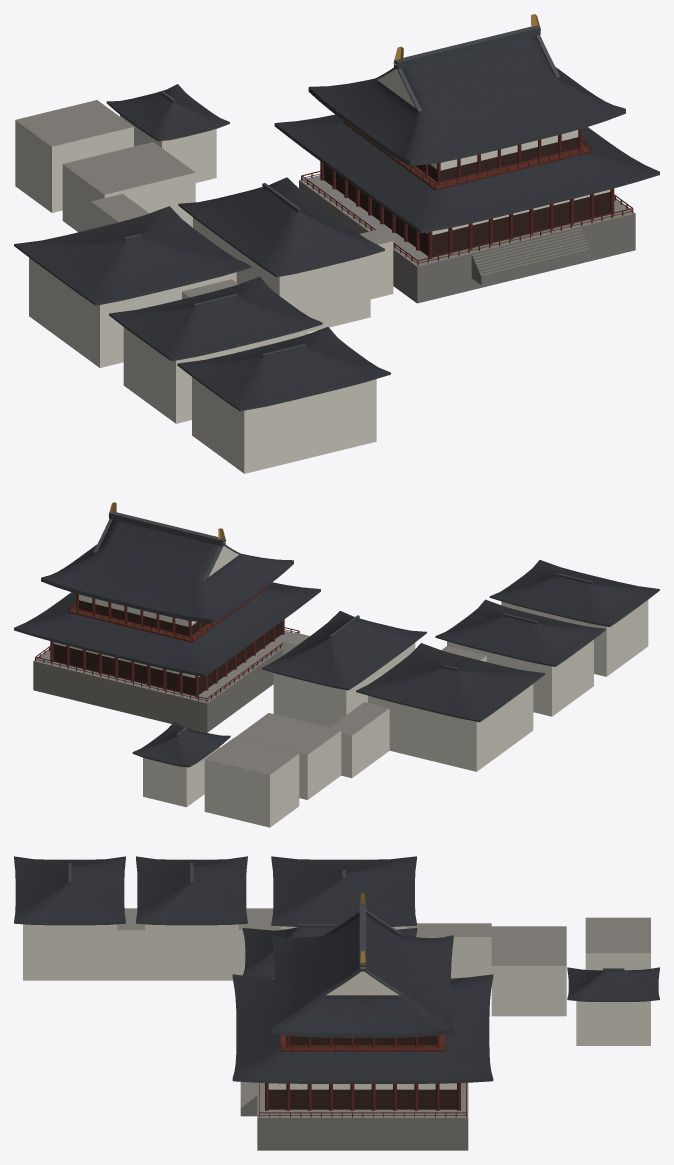
File: zojoji_daiden.glb
3 views of the same model, one above another, from view 1: azimuth 30°, elevation 25°; view 2: azimuth 150°, elevation 25°; view 3: azimuth 270°, elevation 25° (orthographic). The views are drawn at different scales.
Parts seen in each view (by area): view 1: Daiden_Near; view 2: Daiden_Near; view 3: Daiden_Near.
Part boxes in pixels (x1,y1,x2,y2): Daiden_Near: (14,14,659,473); Daiden_Near: (14,502,659,827); Daiden_Near: (14,856,659,1150).
Size of the model in its own units: 119 by 42.4 by 138.
9 materials, 1 textured.
